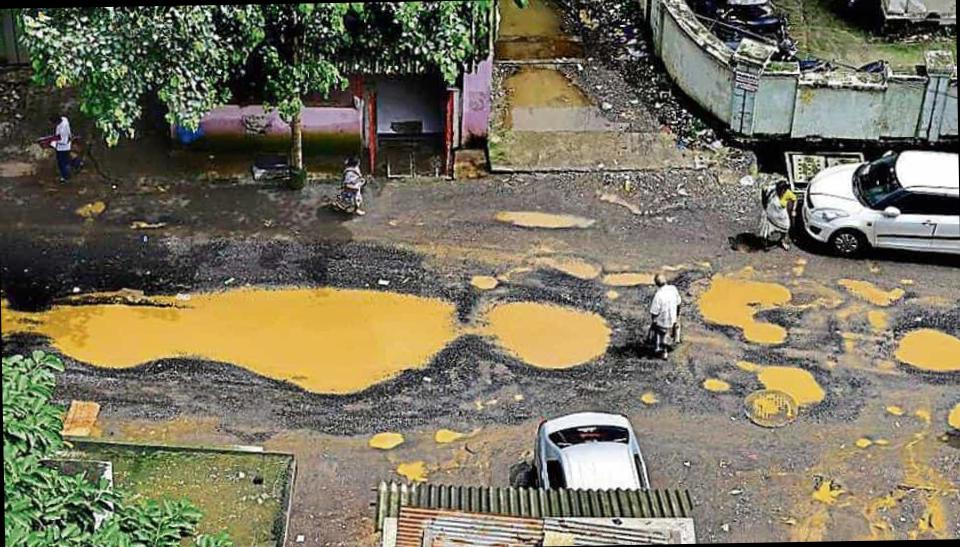pothole: (2, 271, 470, 410), (470, 292, 614, 386), (682, 264, 810, 348), (734, 352, 830, 416), (878, 316, 960, 390), (492, 204, 610, 237), (828, 270, 918, 312), (529, 246, 602, 288), (592, 257, 674, 292), (802, 469, 848, 512), (392, 456, 436, 488), (850, 430, 894, 457), (464, 268, 499, 300), (365, 429, 408, 452), (940, 396, 960, 444), (432, 424, 469, 448), (696, 371, 734, 394), (635, 384, 665, 408), (881, 400, 908, 417)
